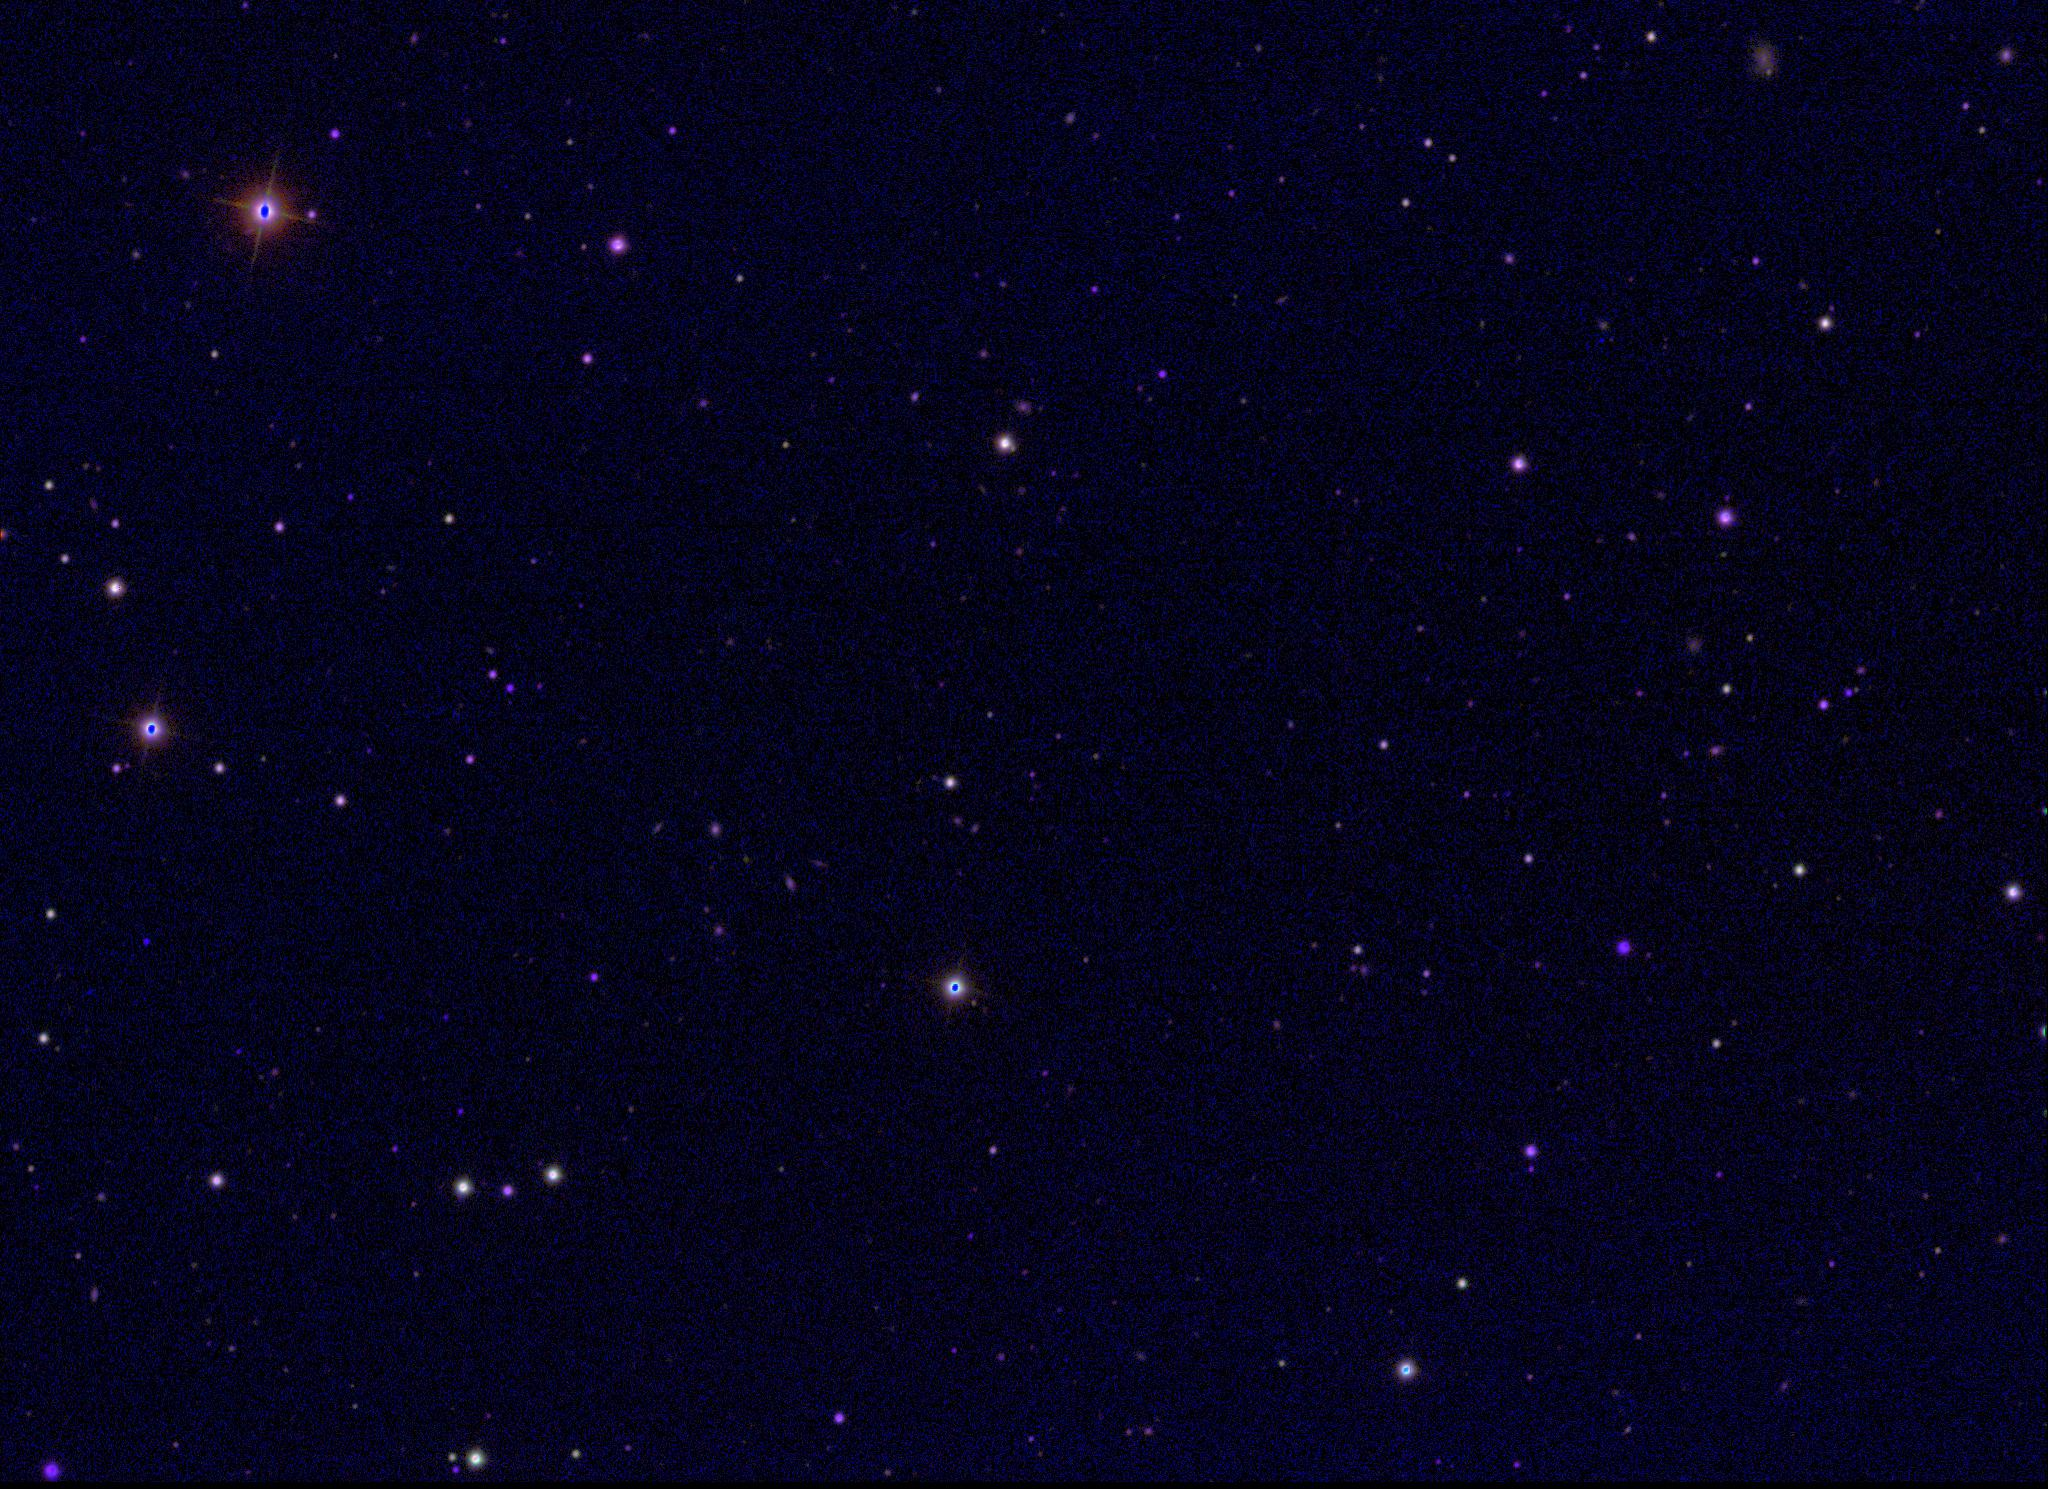L: (142, 932, 154, 947)
